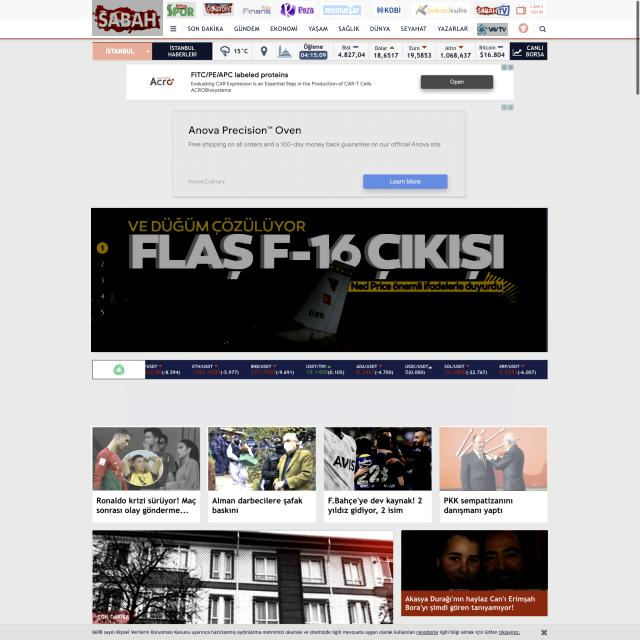ImageView: (173, 110, 468, 196), (127, 63, 513, 102)
alert: (92, 43, 152, 60)
card: (91, 208, 548, 352)
carousel: (536, 24, 550, 35)
copy: (93, 530, 393, 624), (402, 530, 548, 589), (91, 426, 200, 491), (207, 426, 316, 491), (324, 427, 432, 491), (440, 426, 548, 490)
date picker: (92, 0, 163, 36), (412, 2, 469, 18), (280, 1, 315, 19), (321, 3, 364, 17), (474, 2, 511, 18), (168, 2, 198, 18), (514, 2, 546, 16), (203, 4, 234, 18), (478, 23, 510, 36), (241, 4, 272, 17), (374, 4, 403, 16), (517, 21, 531, 35)
decoration: (185, 22, 473, 36), (169, 24, 177, 34)
header: (0, 624, 640, 640)
